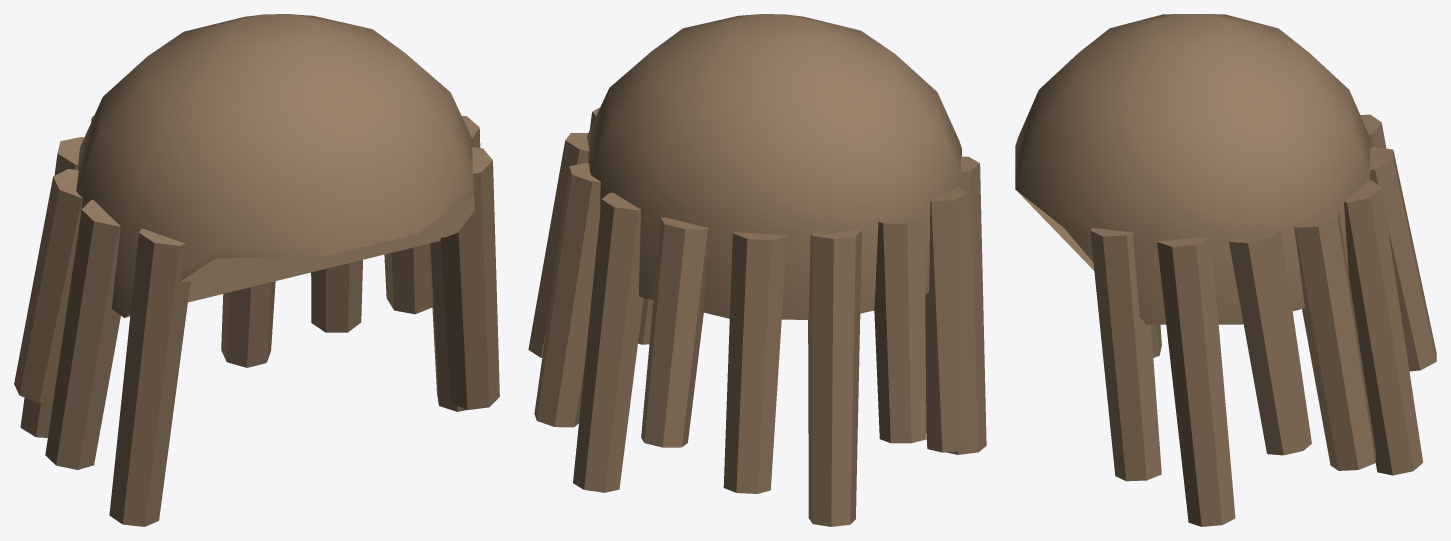
File: CharHairDreads.fbx
The picture shows the model from 3 angles, left to right: view 1: azimuth 30°, elevation 25°; view 2: azimuth 150°, elevation 25°; view 3: azimuth 270°, elevation 25°; orthographic projection. The views are drawn at different scales.
Parts seen in each view (by area): view 1: CharHairDreads; view 2: CharHairDreads; view 3: CharHairDreads.
Boxes of the visible parts, left/top/right/bottom form: CharHairDreads: left=14, top=14, right=499, bottom=526; CharHairDreads: left=528, top=14, right=986, bottom=526; CharHairDreads: left=1015, top=14, right=1436, bottom=526.
Bounding box in the file's own units: 0.5044 × 0.4739 × 0.4532.
